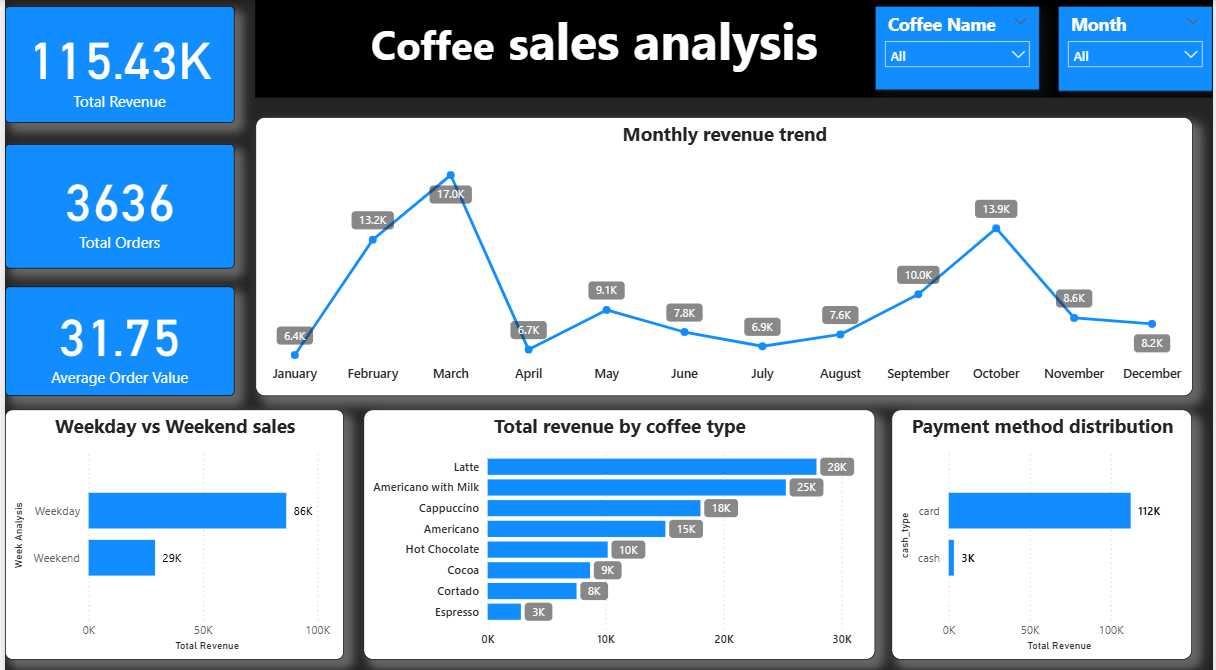

This screenshot's page, from the dashboard's own definition file:
{"tool":"powerbi","page":{"name":"Sales Overview","canvas":[1280,720],"ordinal":0},"visuals":[{"type":"card","fields":{"Values":["CoffeeSalesData.Total Revenue"]},"box":[0,6.4,243.4,124.1],"z":0},{"type":"card","fields":{"Values":["CoffeeSalesData.Total Orders"]},"box":[0,152.7,243.4,132],"z":1000},{"type":"card","fields":{"Values":["CoffeeSalesData.Average Order Value"]},"box":[0,303.8,243.4,116.1],"z":2000},{"type":"barChart","title":"Weekday vs Weekend sales","fields":{"Category":["CoffeeSalesData.weekAnalysis"],"Y":["CoffeeSalesData.Total Revenue"]},"box":[0,434,359.5,265.6],"z":3000},{"type":"textbox","box":[265.6,0,1014.8,103.4],"z":4000},{"type":"barChart","title":"Total revenue by coffee type","fields":{"Category":["CoffeeSalesData.coffee_name"],"Y":["CoffeeSalesData.Total Revenue"]},"box":[380.5,434,542.4,265.6],"z":5000},{"type":"clusteredBarChart","title":"Payment method distribution","fields":{"Category":["CoffeeSalesData.cash_type"],"Y":["CoffeeSalesData.Total Revenue"]},"box":[940.8,434,319,265.6],"z":6000},{"type":"slicer","fields":{"Values":["CoffeeSalesData.coffee_name"]},"box":[922.6,6.4,175,89.1],"z":7000},{"type":"slicer","fields":{"Values":["CoffeeSalesData.date.Variation.Date Hierarchy.Month"]},"box":[1116.6,6.4,163.8,90.7],"z":8000},{"type":"lineChart","title":"Monthly revenue trend","fields":{"Category":["CoffeeSalesData.date.Variation.Date Hierarchy.Month"],"Y":["CoffeeSalesData.Total Revenue"]},"box":[265.6,124.1,994.1,295.9],"z":9000}]}

Visuals, with their boxes in screenshot pixels (x1, y1, x2, y2), scaled from the page's 1280x720 canvas onto the 1216x670 screenshot:
card - CoffeeSalesData.Total Revenue: <bbox>0, 6, 231, 121</bbox>
card - CoffeeSalesData.Total Orders: <bbox>0, 142, 231, 265</bbox>
card - CoffeeSalesData.Average Order Value: <bbox>0, 283, 231, 391</bbox>
"Weekday vs Weekend sales" barChart: <bbox>0, 404, 342, 651</bbox>
textbox: <bbox>252, 0, 1215, 96</bbox>
"Total revenue by coffee type" barChart: <bbox>361, 404, 877, 651</bbox>
"Payment method distribution" clusteredBarChart: <bbox>894, 404, 1197, 651</bbox>
slicer - CoffeeSalesData.coffee_name: <bbox>876, 6, 1043, 89</bbox>
slicer - CoffeeSalesData.date.Variation.Date Hierarchy.Month: <bbox>1061, 6, 1215, 90</bbox>
"Monthly revenue trend" lineChart: <bbox>252, 115, 1197, 391</bbox>
